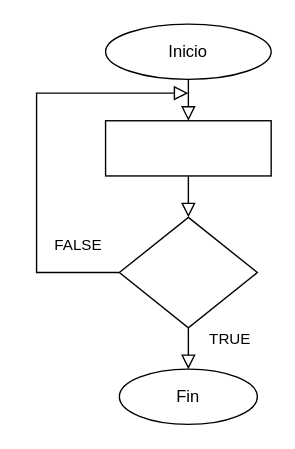
The diagram is 295 pixels wide and 449 high, and some of its shapes have lost their labels. The shapes that lost their labels are listed below. From the top down, each one's centre as x and y in pixels, then its label:
At point (187, 147): "Bloque de instrucciones".
At point (187, 272): "<condición>".
